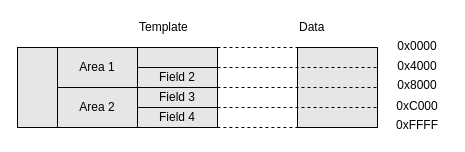
This 465x152 diagram has some shape labels left out. Here are the shapes that lost their labels. From the top down, the box of each, then its label:
(136, 46, 218, 68): Field 1
(16, 46, 58, 128): Root
